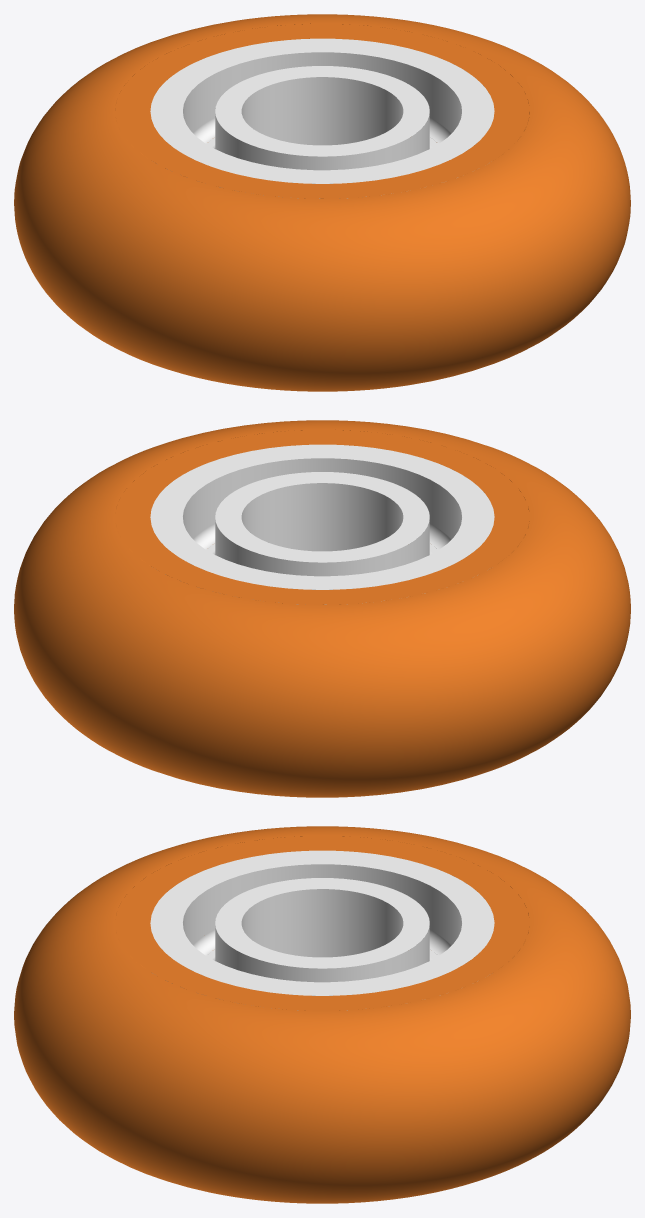
File: wheel_caster.dae
3 renders of one model, top to bottom at view 1: azimuth 30°, elevation 25°; view 2: azimuth 150°, elevation 25°; view 3: azimuth 270°, elevation 25°, orthographic.
Visible parts, largest first — view 1: Brep (×13); view 2: Brep (×11); view 3: Brep (×13).
Part boxes in pixels (left/top/right/bottom): Brep (×13): left=14, top=14, right=630, bottom=391; Brep (×11): left=14, top=420, right=630, bottom=797; Brep (×13): left=14, top=826, right=630, bottom=1203.
Bounding box in the file's own units: 0.1524 × 0.1524 × 0.05.
